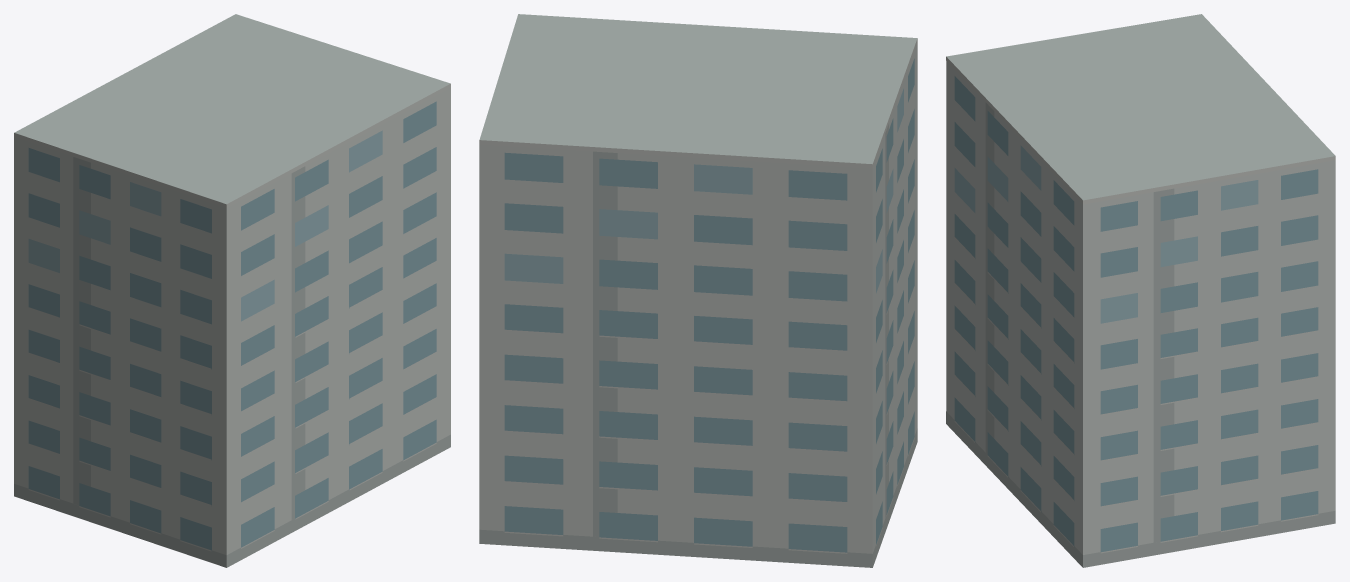
File: survey-upis-32860299.glb
3 views of the same model, side by side, from view 1: azimuth 30°, elevation 25°; view 2: azimuth 150°, elevation 25°; view 3: azimuth 270°, elevation 25° (orthographic). The views are drawn at different scales.
Visible parts, largest first — view 1: survey-upis-32860299.tmp; view 2: survey-upis-32860299.tmp; view 3: survey-upis-32860299.tmp.
Boxes of the visible parts, bbox=[...] form: survey-upis-32860299.tmp: bbox=[14, 14, 450, 567]; survey-upis-32860299.tmp: bbox=[479, 14, 917, 567]; survey-upis-32860299.tmp: bbox=[946, 14, 1335, 567].
Size of the model in its own units: 23.43 by 21.53 by 20.69.
